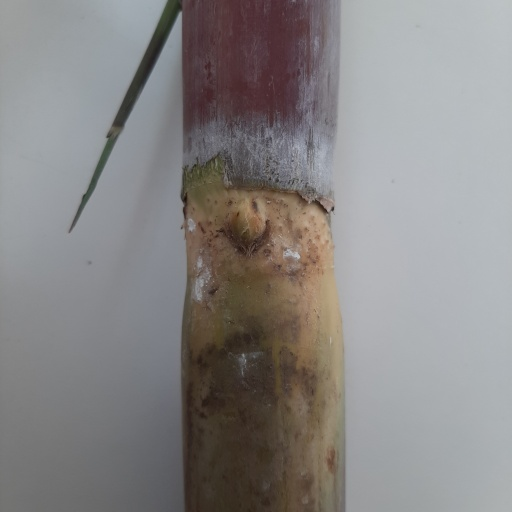Bud: (225, 201, 274, 259)
